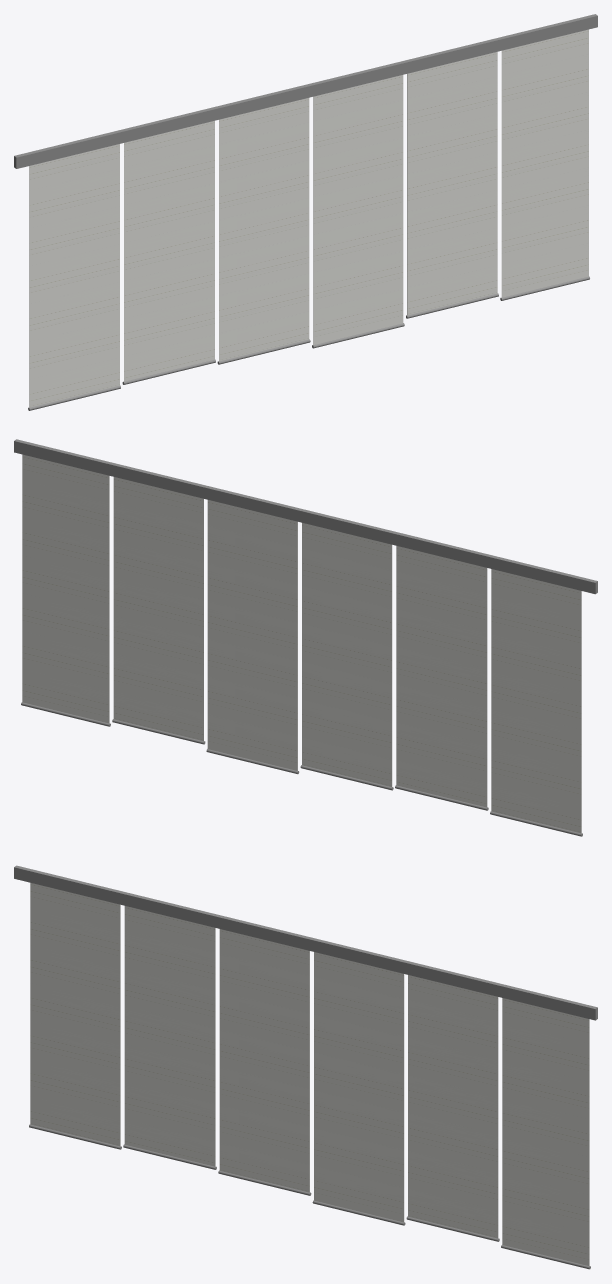
Rendered from Curtains.fbx.
The picture shows the model from 3 angles, top to bottom: view 1: azimuth 30°, elevation 25°; view 2: azimuth 150°, elevation 25°; view 3: azimuth 330°, elevation 25°; orthographic projection.
Parts seen in each view (by area): view 1: curtains; view 2: curtains; view 3: curtains.
Boxes of the visible parts, x1=… form: curtains: x1=14, y1=14, x2=597, y2=410; curtains: x1=14, y1=439, x2=597, y2=836; curtains: x1=14, y1=865, x2=597, y2=1269.
Bounding box in the file's own units: 775 × 337 × 5.71.
Materials: 2 (1 with a texture image).
